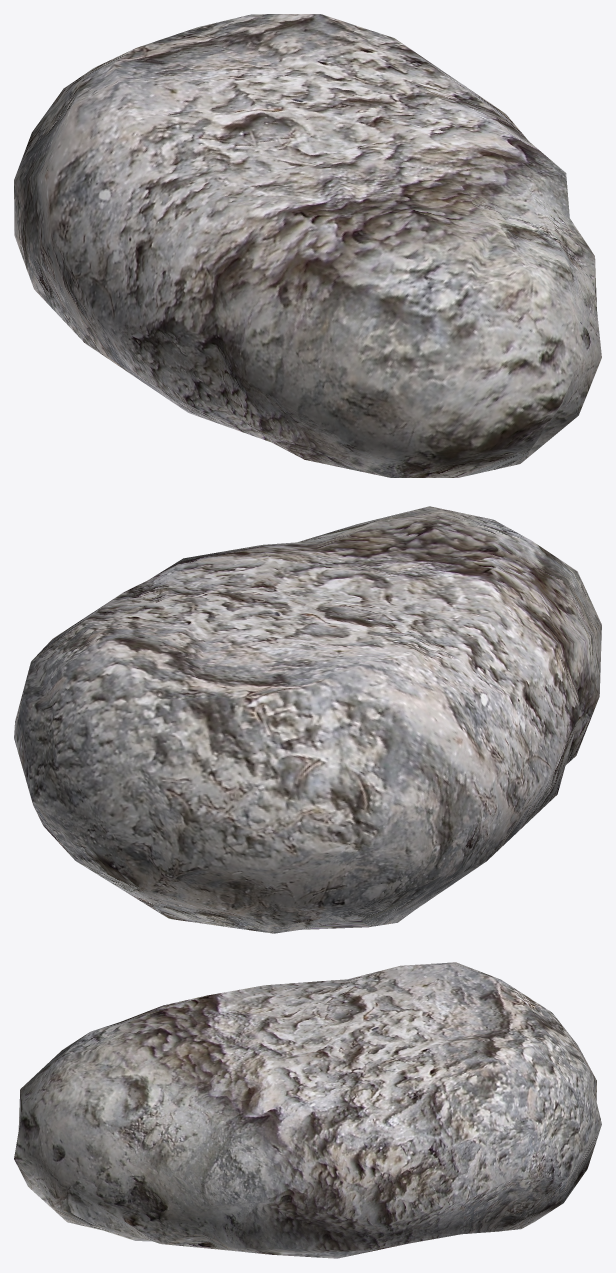
File: rock.gltf
The picture shows the model from 3 angles, top to bottom: view 1: azimuth 30°, elevation 25°; view 2: azimuth 150°, elevation 25°; view 3: azimuth 270°, elevation 25°; orthographic projection. The views are drawn at different scales.
Parts seen in each view (by area): view 1: Cube; view 2: Cube; view 3: Cube.
Part boxes in pixels (x1,y1,x2,y2): Cube: (14,14,601,477); Cube: (14,506,601,933); Cube: (14,962,601,1258).
Bounding box in the file's own units: 1.6 × 0.966 × 2.27.
Materials: 1 (1 with a texture image).
